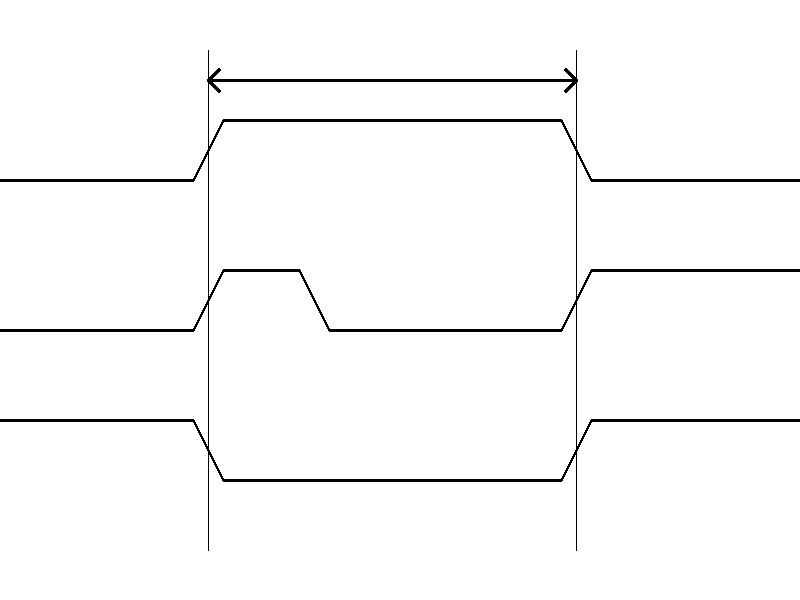double_arrow: (208, 65, 576, 95)
